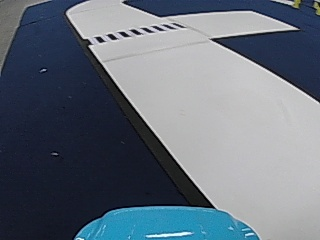CrossWalk: (88, 22, 183, 45)
